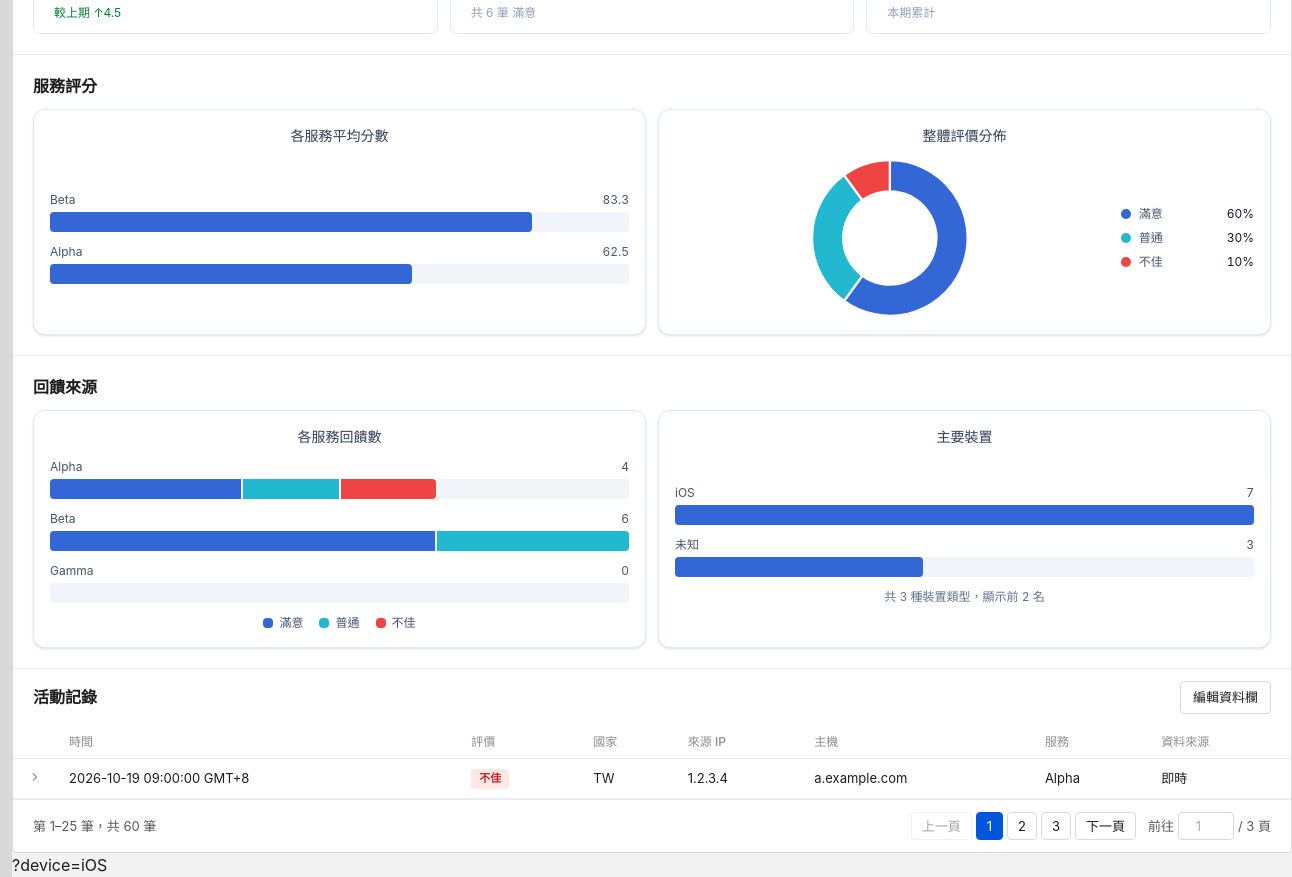
Test: FeedbackOverviewPage: activity log and errors › loads the next page with the same filters and keeps the page in the link
(page scrolled)
Click the button "下一頁". click: (1105,826)
box: [1075, 812, 1136, 840]
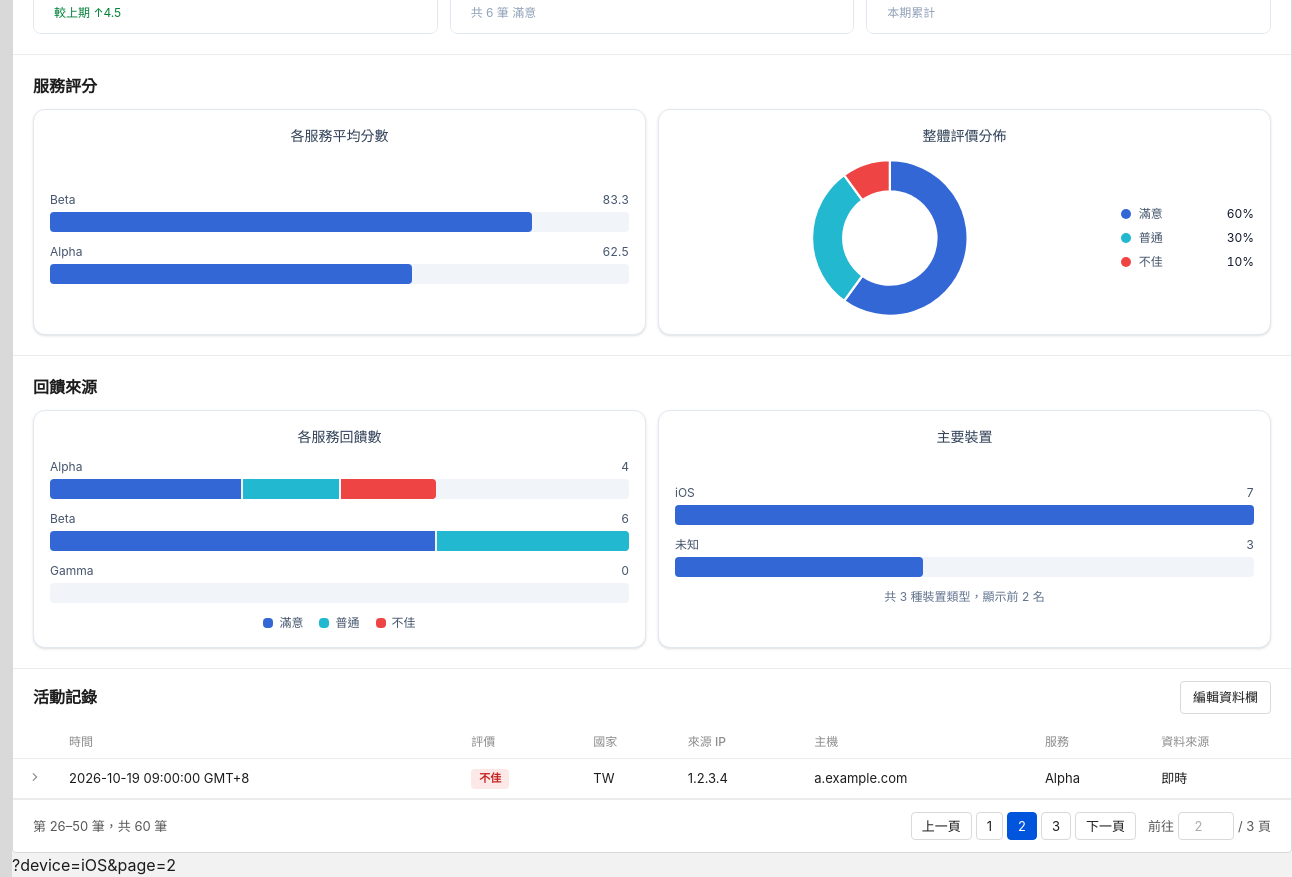
Expected: the text named "location" reads "?device=iOS&page=2", [12, 855, 176, 875]
